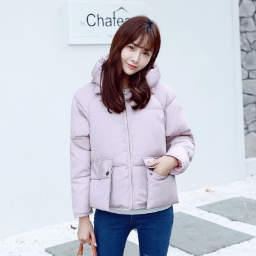face: (100, 12, 164, 116)
